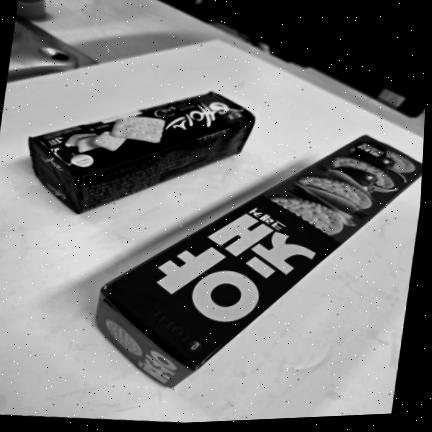cracker_ace: (29, 93, 254, 213)
cracker_vege: (96, 136, 422, 388)
